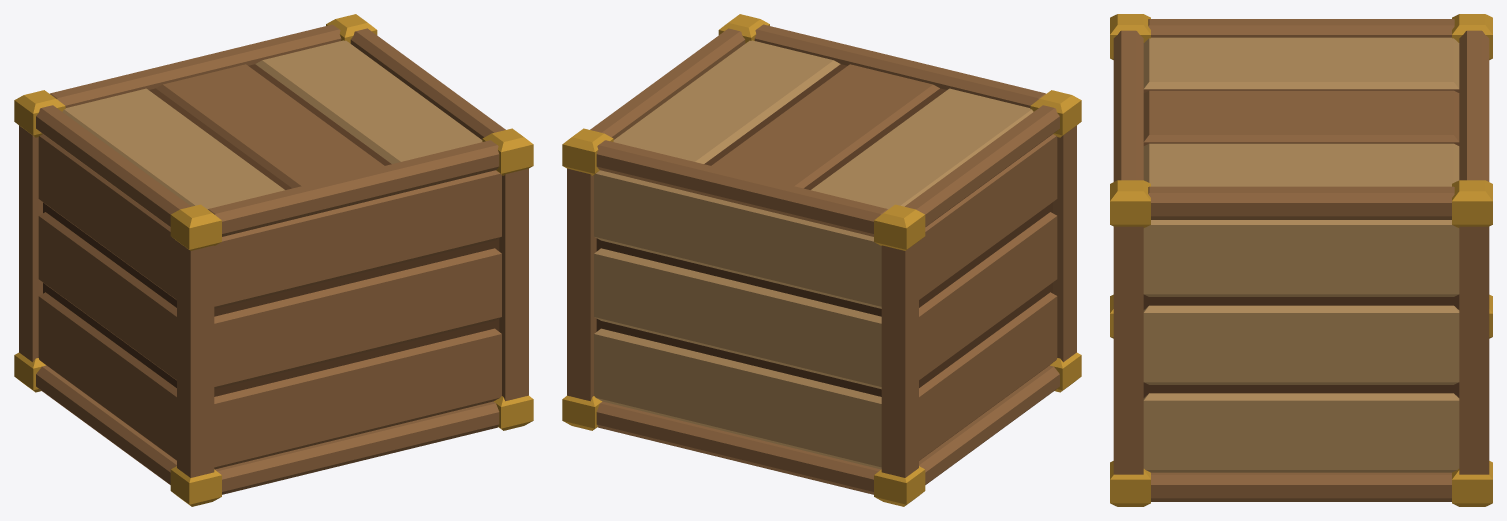
The model's file is Crate_05.glb.
3 renders of one model, left to right at view 1: azimuth 30°, elevation 25°; view 2: azimuth 150°, elevation 25°; view 3: azimuth 270°, elevation 25°, orthographic. The views are drawn at different scales.
Parts seen in each view (by area): view 1: Crate_05; view 2: Crate_05; view 3: Crate_05.
Part boxes in pixels (x1=…): Crate_05: x1=14, y1=14, x2=533, y2=506; Crate_05: x1=562, y1=14, x2=1081, y2=506; Crate_05: x1=1110, y1=14, x2=1492, y2=506.
Size of the model in its own units: 2.33 by 1.87 by 2.06.
